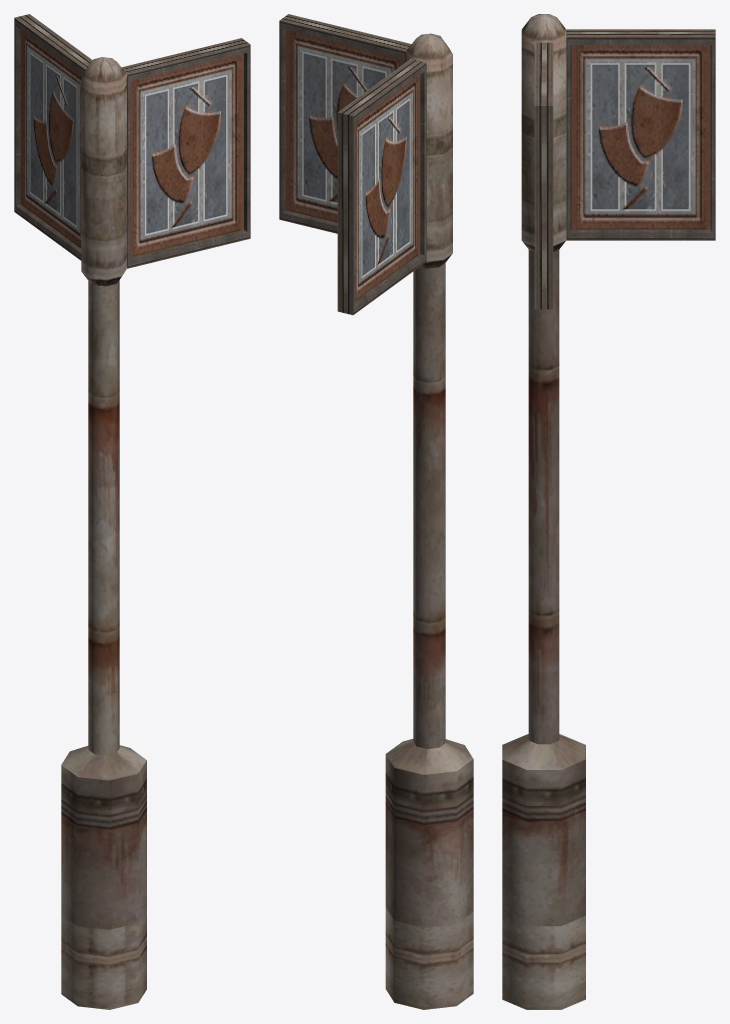
The model's file is thm_sign_tato_standing_l0.fbx.
3 views of the same model, side by side, from view 1: azimuth 30°, elevation 25°; view 2: azimuth 150°, elevation 25°; view 3: azimuth 270°, elevation 25° (orthographic). The views are drawn at different scales.
Parts seen in each view (by area): view 1: mesh_node; view 2: mesh_node; view 3: mesh_node.
Boxes of the visible parts, <box> form: mesh_node: <box>14,14,250,1009</box>; mesh_node: <box>279,14,473,1009</box>; mesh_node: <box>502,14,715,1009</box>.
Size of the model in its own units: 1.07 by 5.41 by 1.07.
2 materials, 2 textured.
